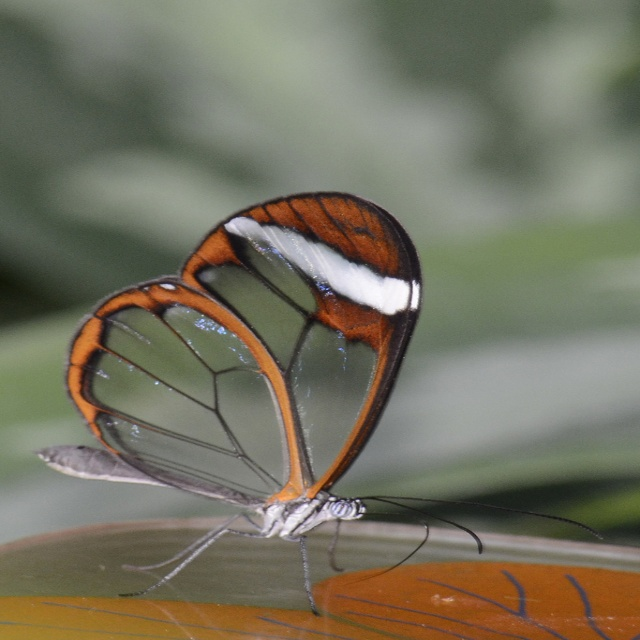Butterfly: (39, 185, 600, 609)
